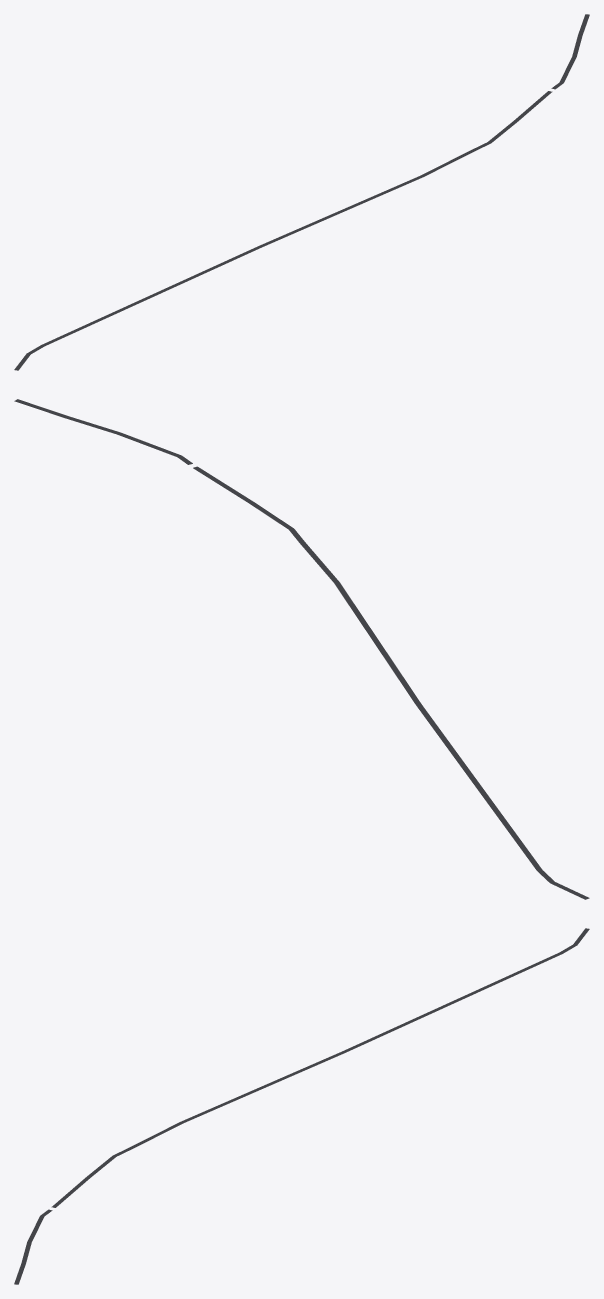
File: district_-4_-4.glb
The picture shows the model from 3 angles, top to bottom: view 1: azimuth 90°, elevation 25°; view 2: azimuth 150°, elevation 25°; view 3: azimuth 270°, elevation 25°; orthographic projection. The views are drawn at different scales.
Visible parts, largest first — view 1: Road Меновинская улица; view 2: Road Меновинская улица; view 3: Road Меновинская улица.
Boxes of the visible parts, x1=… form: Road Меновинская улица: x1=14, y1=14, x2=589, y2=370; Road Меновинская улица: x1=14, y1=399, x2=589, y2=899; Road Меновинская улица: x1=14, y1=928, x2=589, y2=1284.
Bounding box in the file's own units: 712 × 0 × 486.
Materials: 1 (1 with a texture image).
